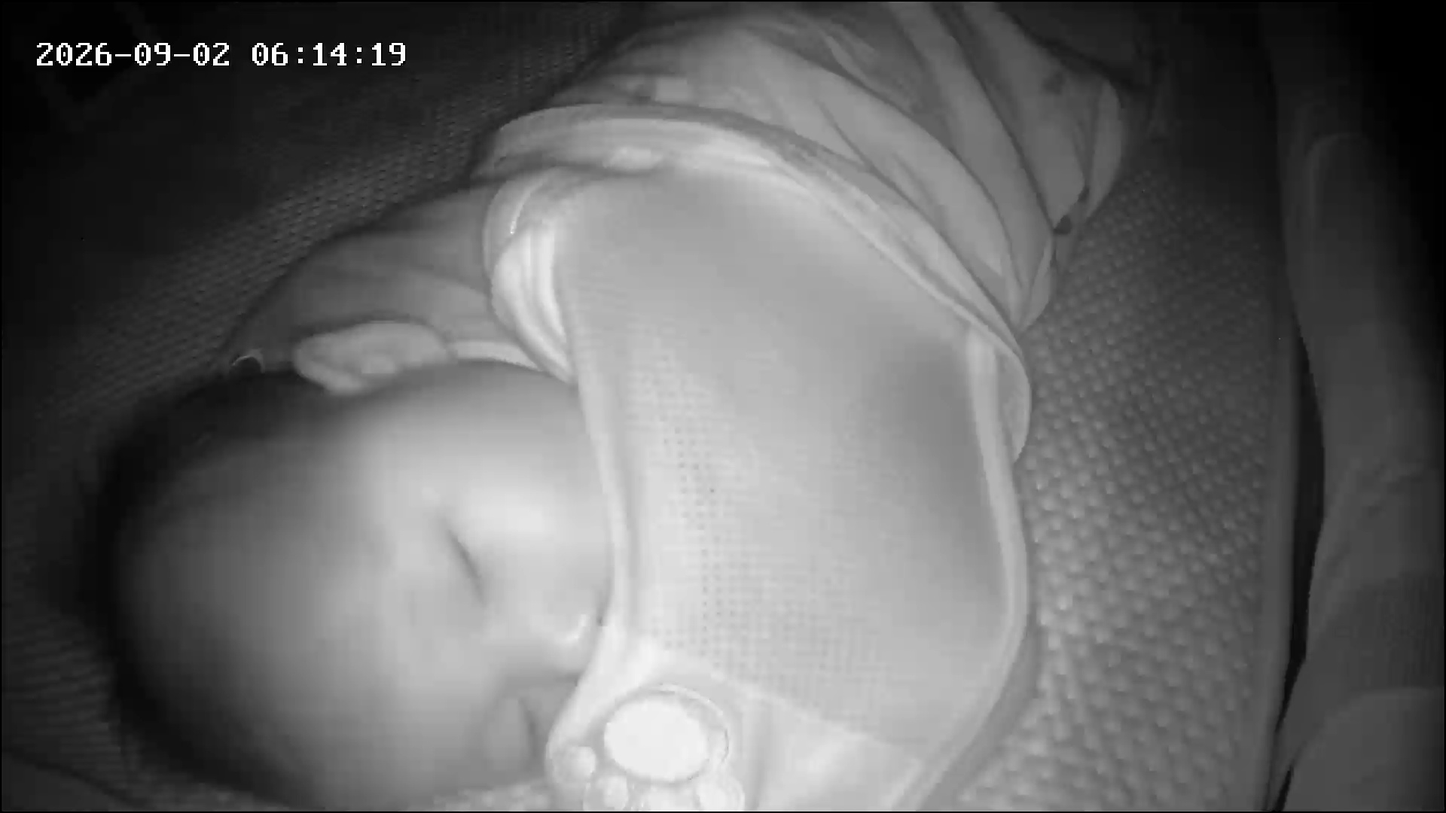baby: (15, 2, 1112, 810)
baby_face: (42, 363, 662, 810)
